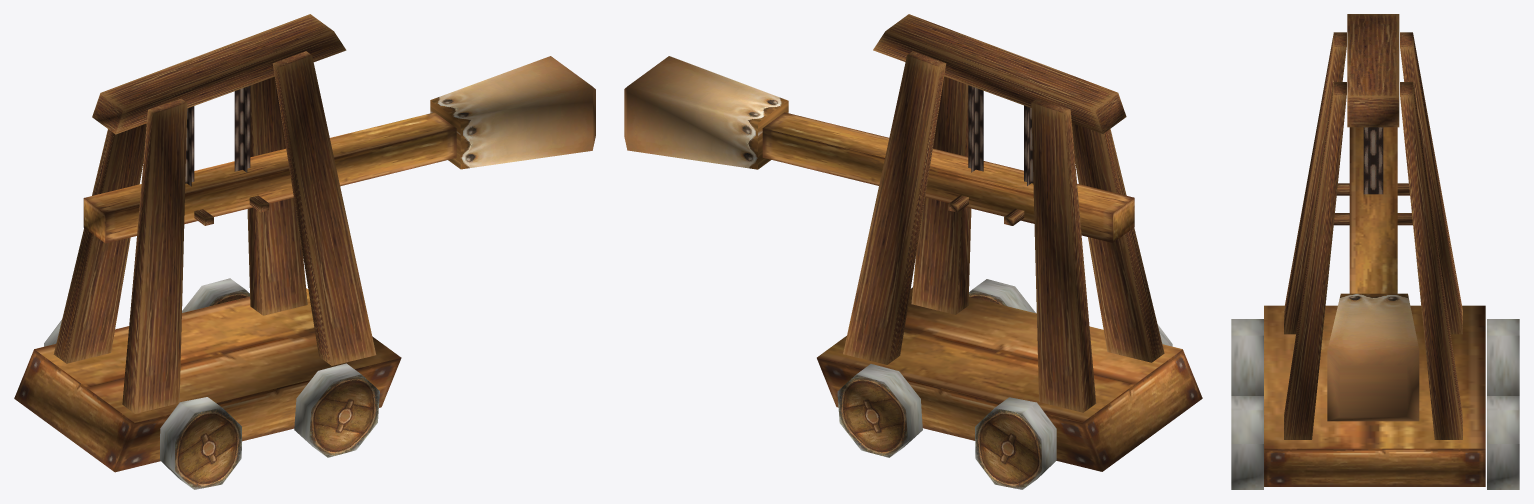
The model's file is deadminegiantramrod.obj.
3 renders of one model, left to right at view 1: azimuth 30°, elevation 25°; view 2: azimuth 150°, elevation 25°; view 3: azimuth 270°, elevation 25°, orthographic. The views are drawn at different scales.
Visible parts, largest first — view 1: DEADMINEGIANTRAMROD0, DEADMINEGIANTRAMROD1; view 2: DEADMINEGIANTRAMROD0, DEADMINEGIANTRAMROD1; view 3: DEADMINEGIANTRAMROD0, DEADMINEGIANTRAMROD1.
Boxes of the visible parts, x1,y1,x2,y2 form: DEADMINEGIANTRAMROD0: [14, 14, 595, 489]; DEADMINEGIANTRAMROD1: [185, 85, 250, 186]; DEADMINEGIANTRAMROD0: [624, 14, 1202, 489]; DEADMINEGIANTRAMROD1: [968, 85, 1033, 185]; DEADMINEGIANTRAMROD0: [1231, 14, 1519, 489]; DEADMINEGIANTRAMROD1: [1363, 127, 1383, 194].
Bounding box in the file's own units: 5.13 × 3.56 × 2.26.
2 materials, 2 textured.
